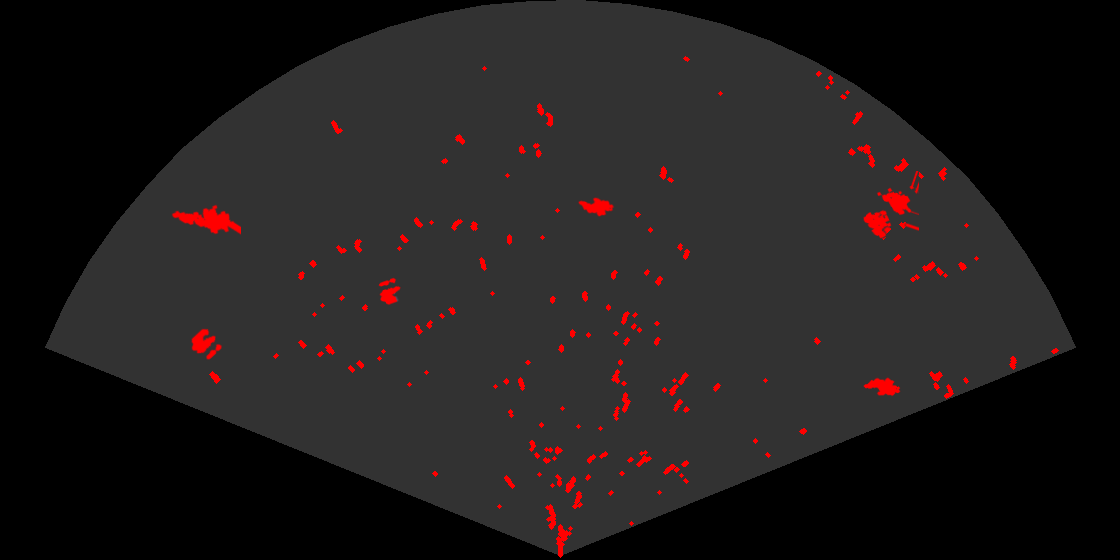AUV: (862, 376, 902, 398), (577, 196, 616, 218)
ball: (190, 327, 224, 361), (377, 276, 402, 307)
cage: (862, 171, 919, 240)
frogman: (170, 203, 241, 237)
